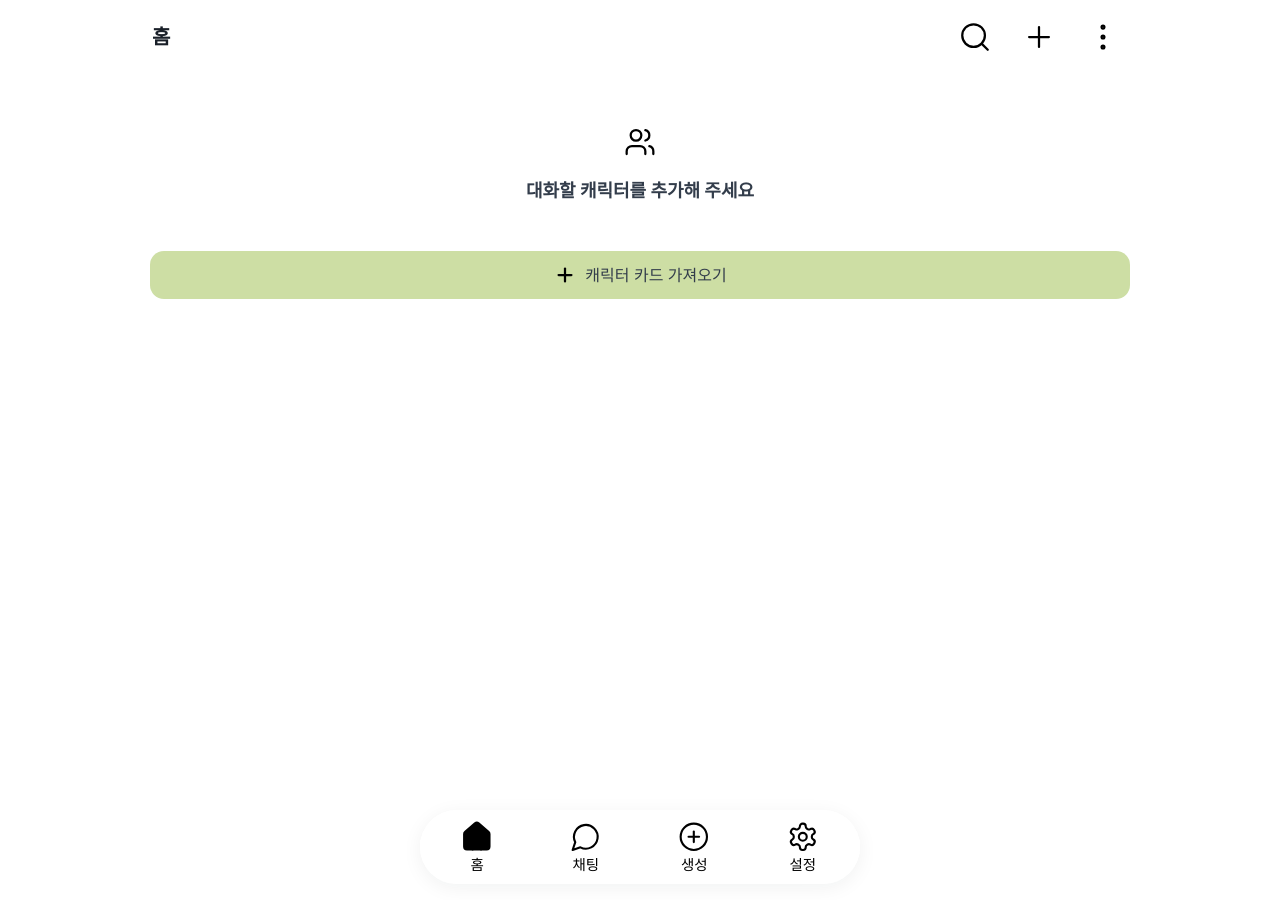
Test: live workspace settings entry › loads actual storage counts using the shared client
expect the heading "대화할 캐릭터를 추가해 주세요" is shown: met, box [526,180,754,201]
Click the button "설정": [803, 847] box [748,810,857,884]
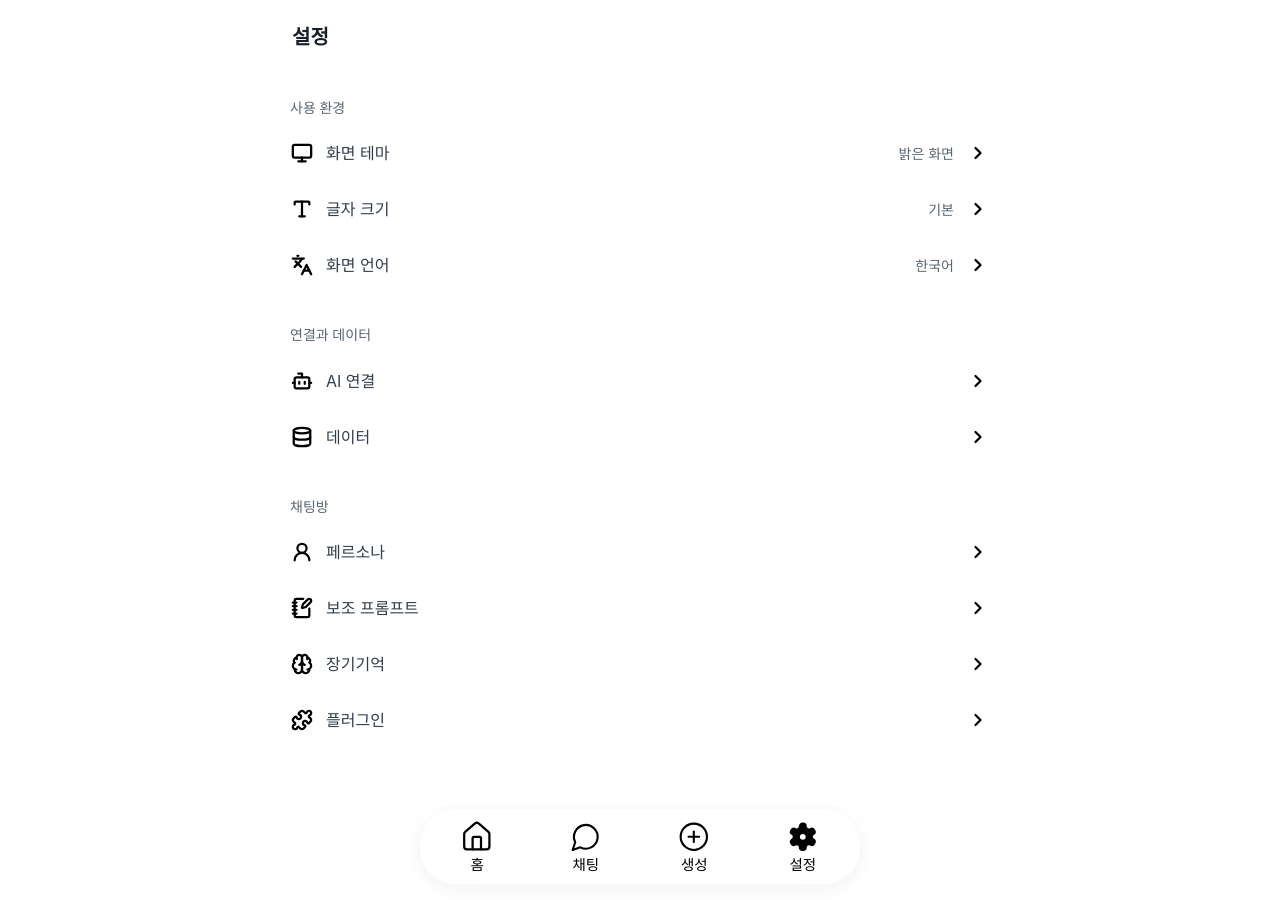
expect the element "설정" is shown: met
Click the button "데이터": [348, 436] box [274,408,1006,464]
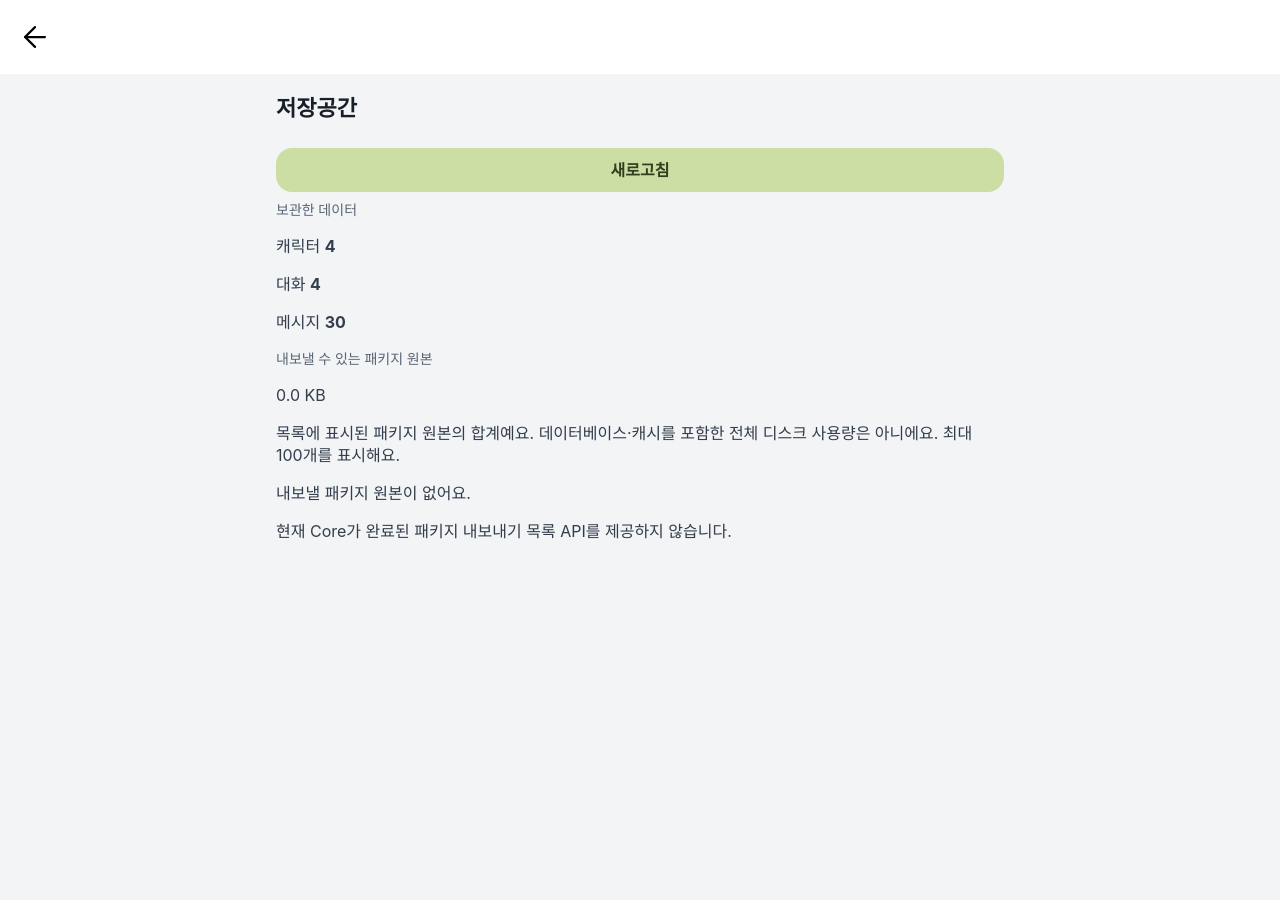
expect the heading "보관한 데이터" is shown: met, box [276,201,357,218]
expect the text "목록에 표시된 패키지 원본의 합계예요. 데이터베이스·캐시를 포함한 전체 디스크 사용량은 아니에요. 최대 100개를 표시해요." is shown: met, box [276,422,1004,466]
